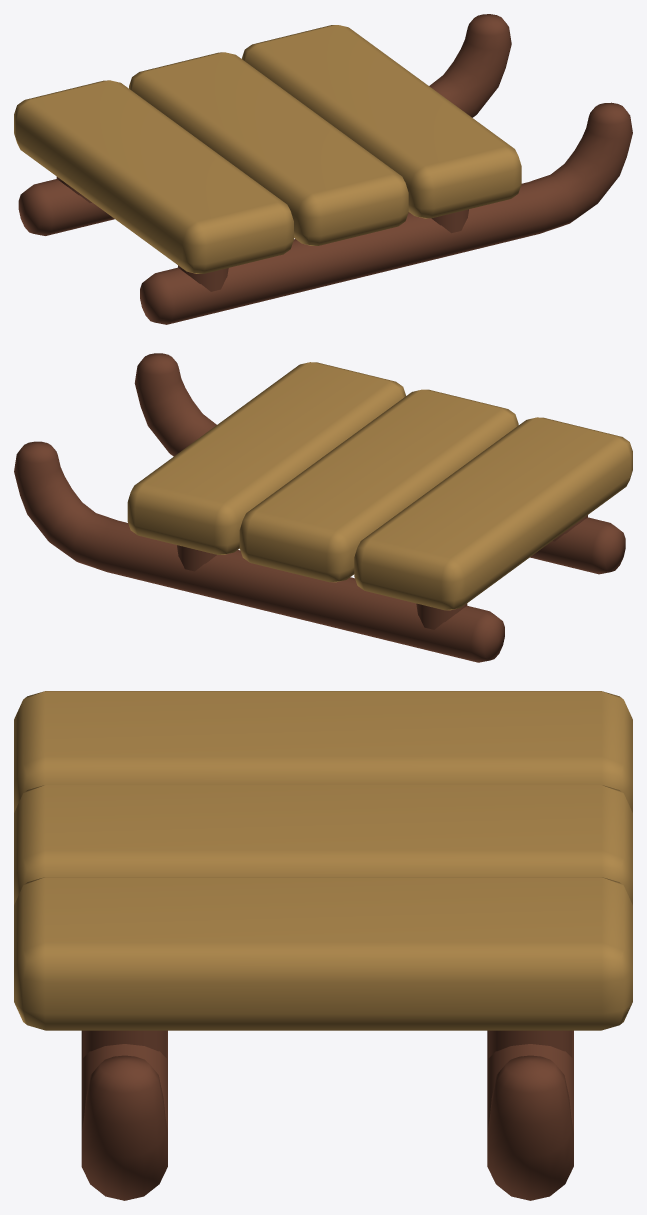
Rendered from Sledding.fbx.
3 renders of one model, top to bottom at view 1: azimuth 30°, elevation 25°; view 2: azimuth 150°, elevation 25°; view 3: azimuth 270°, elevation 25°, orthographic. The views are drawn at different scales.
Visible parts, largest first — view 1: Sledding4, Sledding3; view 2: Sledding4, Sledding3; view 3: Sledding4, Sledding3.
Boxes of the visible parts, <box> form: Sledding4: <box>14,25,521,273</box>; Sledding3: <box>18,14,632,324</box>; Sledding4: <box>127,362,632,610</box>; Sledding3: <box>14,353,625,662</box>; Sledding4: <box>14,691,632,1030</box>; Sledding3: <box>81,1030,573,1200</box>.
Size of the model in its own units: 2.29 by 0.5237 by 1.51.
